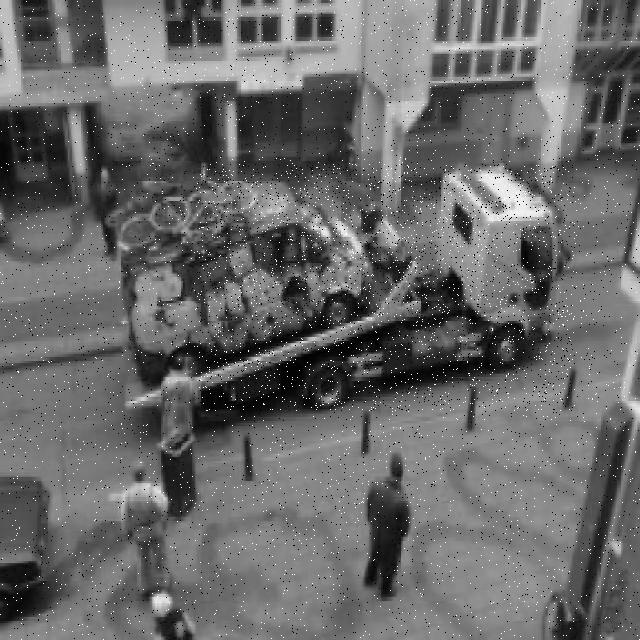Tow Truck: (197, 164, 575, 411)
